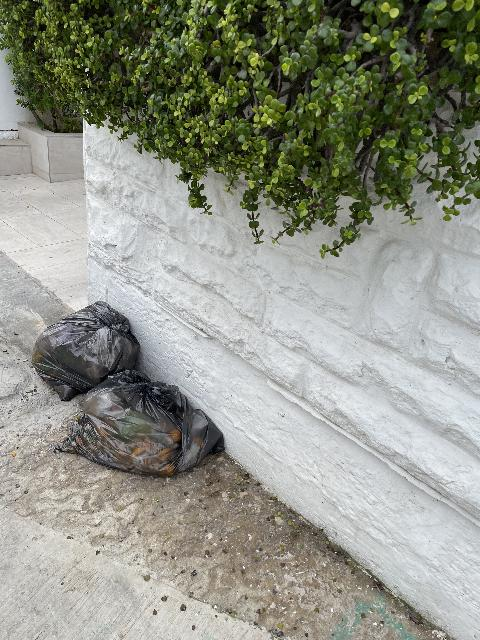Recyclable -Grey-: (55, 370, 224, 477), (32, 301, 140, 400)
